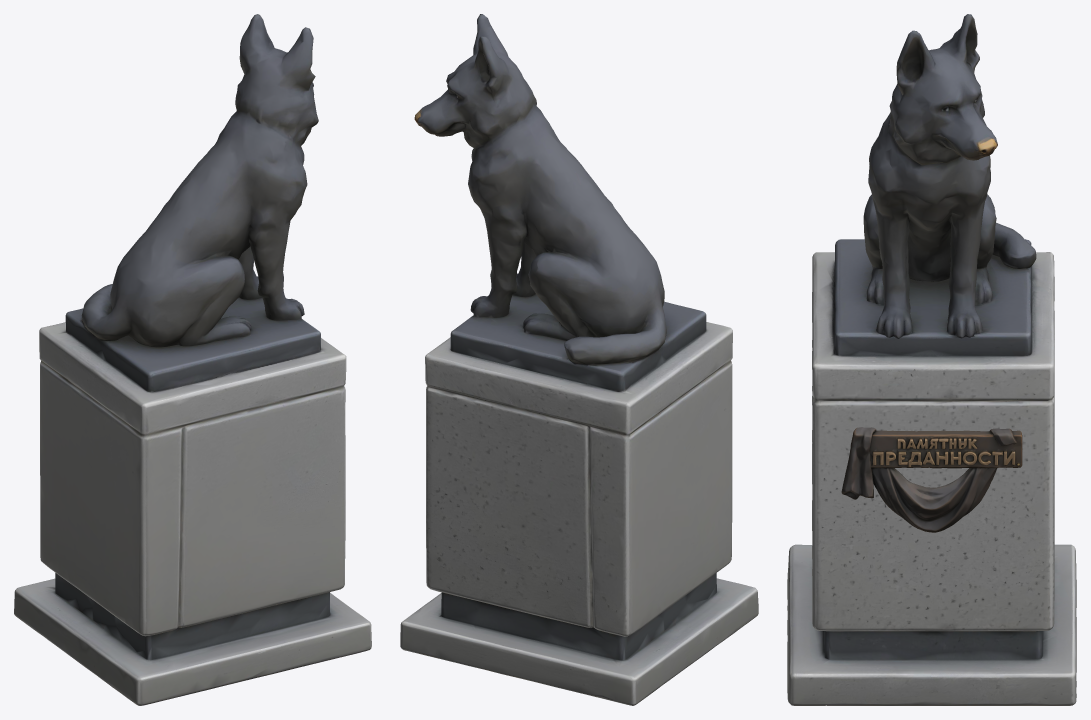
File: DOM_andreyvbvbvb_8.glb
The picture shows the model from 3 angles, left to right: view 1: azimuth 30°, elevation 25°; view 2: azimuth 150°, elevation 25°; view 3: azimuth 270°, elevation 25°; orthographic projection. The views are drawn at different scales.
Visible parts, largest first — view 1: tripo_node_e06c3dab-32b9-4c18-9968-e69ea7e20412; view 2: tripo_node_e06c3dab-32b9-4c18-9968-e69ea7e20412; view 3: tripo_node_e06c3dab-32b9-4c18-9968-e69ea7e20412, tripo_node_790a4ffe-fda5-48c8-9080-62da0bc8688e.
Boxes of the visible parts, bbox=[...] form: tripo_node_e06c3dab-32b9-4c18-9968-e69ea7e20412: bbox=[14, 14, 371, 705]; tripo_node_e06c3dab-32b9-4c18-9968-e69ea7e20412: bbox=[400, 14, 758, 705]; tripo_node_e06c3dab-32b9-4c18-9968-e69ea7e20412: bbox=[787, 14, 1076, 705]; tripo_node_790a4ffe-fda5-48c8-9080-62da0bc8688e: bbox=[841, 427, 1022, 532].
Bounding box in the file's own units: 0.4621 × 1 × 0.3902.
Materials: 6 (2 with a texture image).
